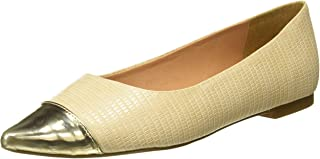shoes: (1, 1, 320, 157)
